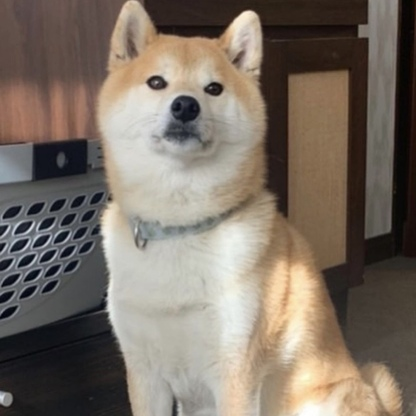shiba: (84, 2, 404, 416)
